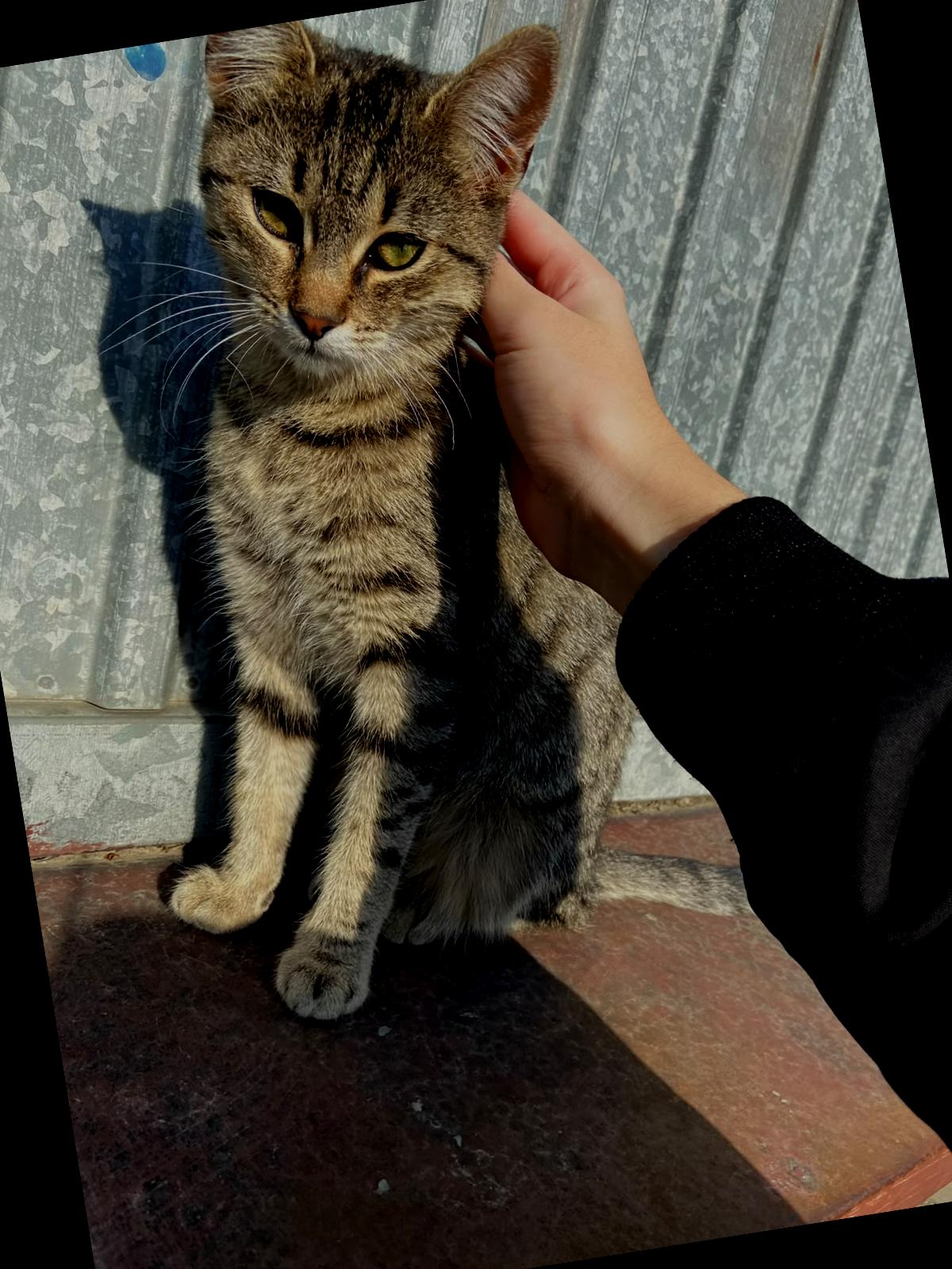macka: (31, 0, 712, 1041)
